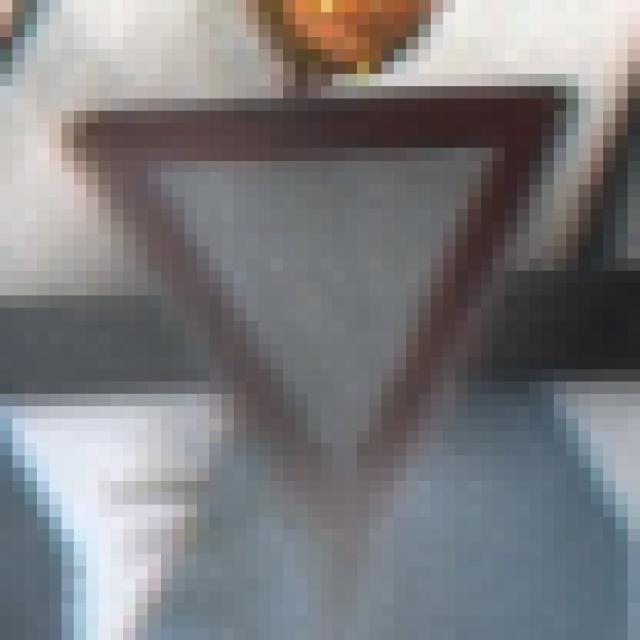Give Way: (75, 63, 579, 580)
